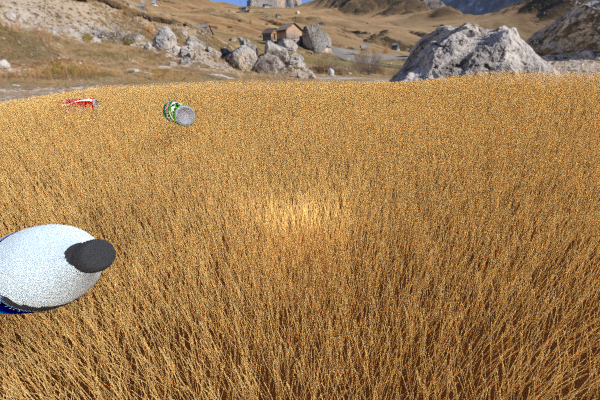bottle: (0, 224, 115, 314)
can: (56, 98, 101, 117), (162, 101, 195, 126)
